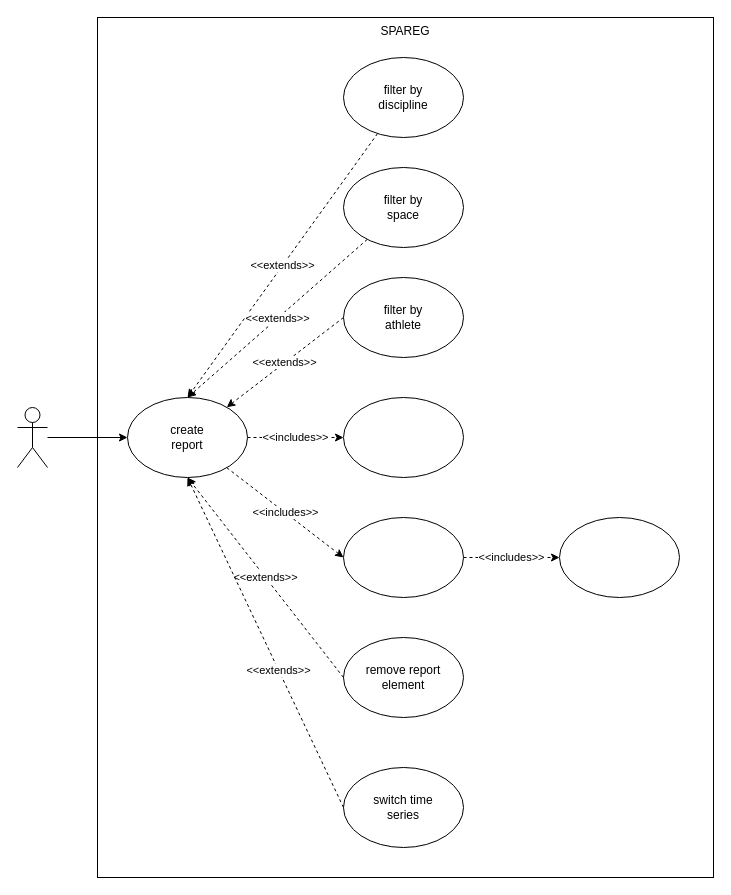
Some shapes in this 731 by 895 pixel diagram are drawn without their labels. The centre of each missing label's shape, as x and y in pixels:
"add report element" goes at point 403,557.
"select element properties" goes at point 619,557.
"select time series" goes at point 403,437.
"User" goes at point 32,437.
